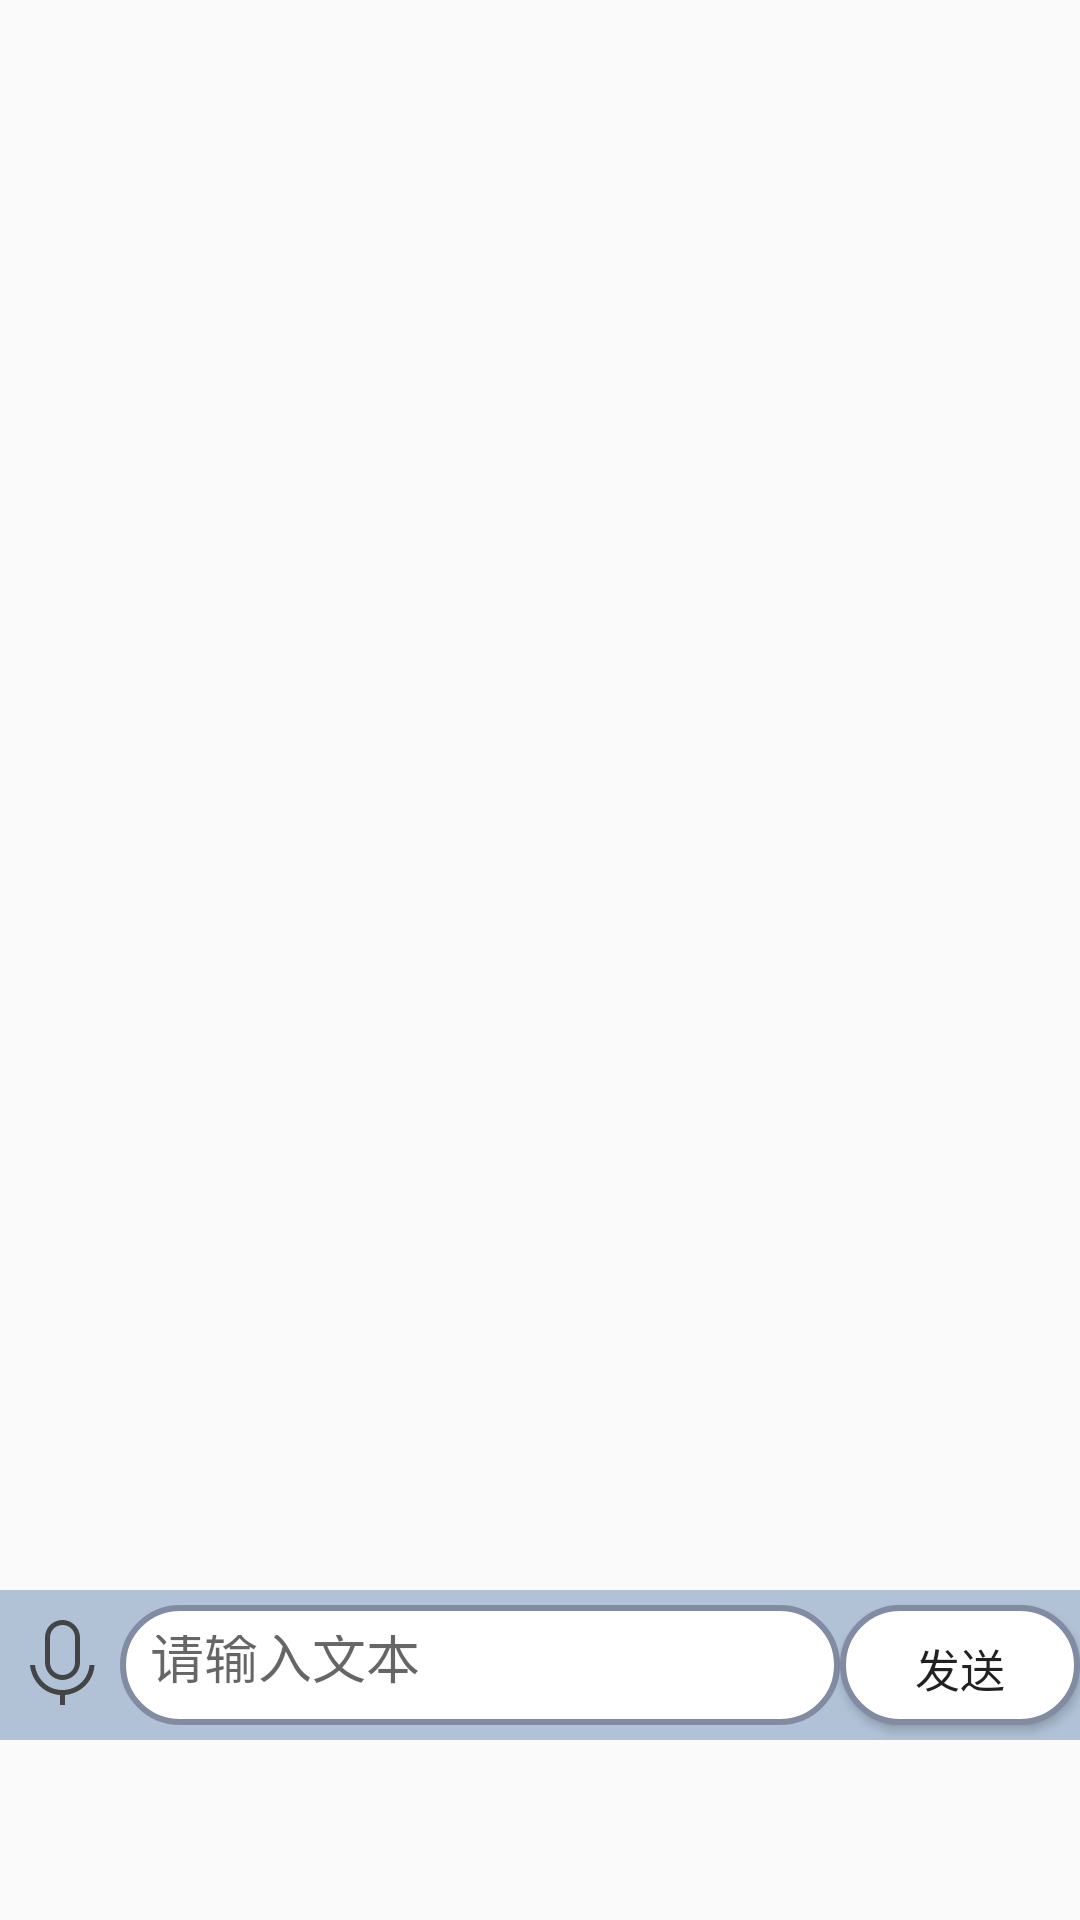

Where to tap for icons on this 1080×1920 app screen, as (x,y):
voice: (62,1662)
